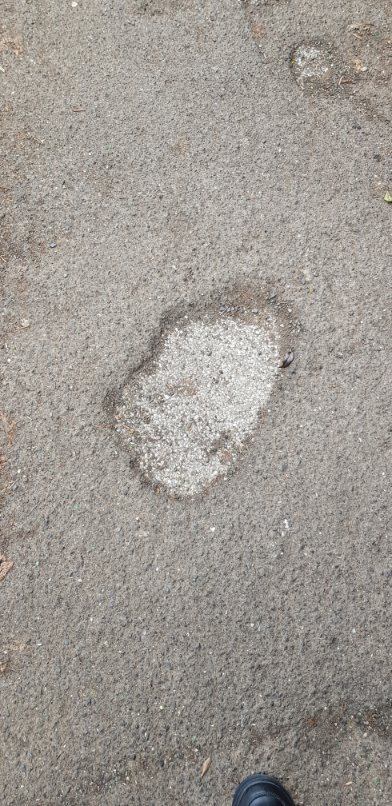pothole: (101, 280, 300, 508), (286, 33, 358, 105)
